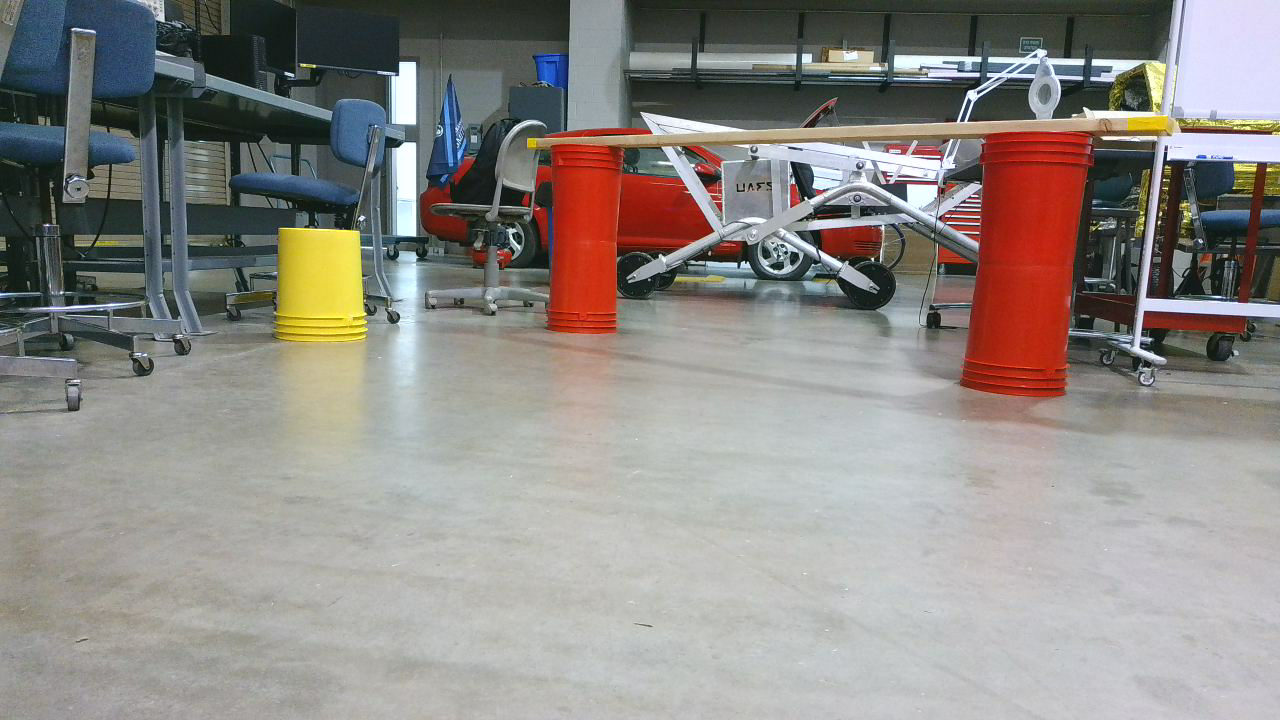red_bucket_arch: (550, 122, 1105, 405)
yellow_bucket: (272, 231, 376, 347)
